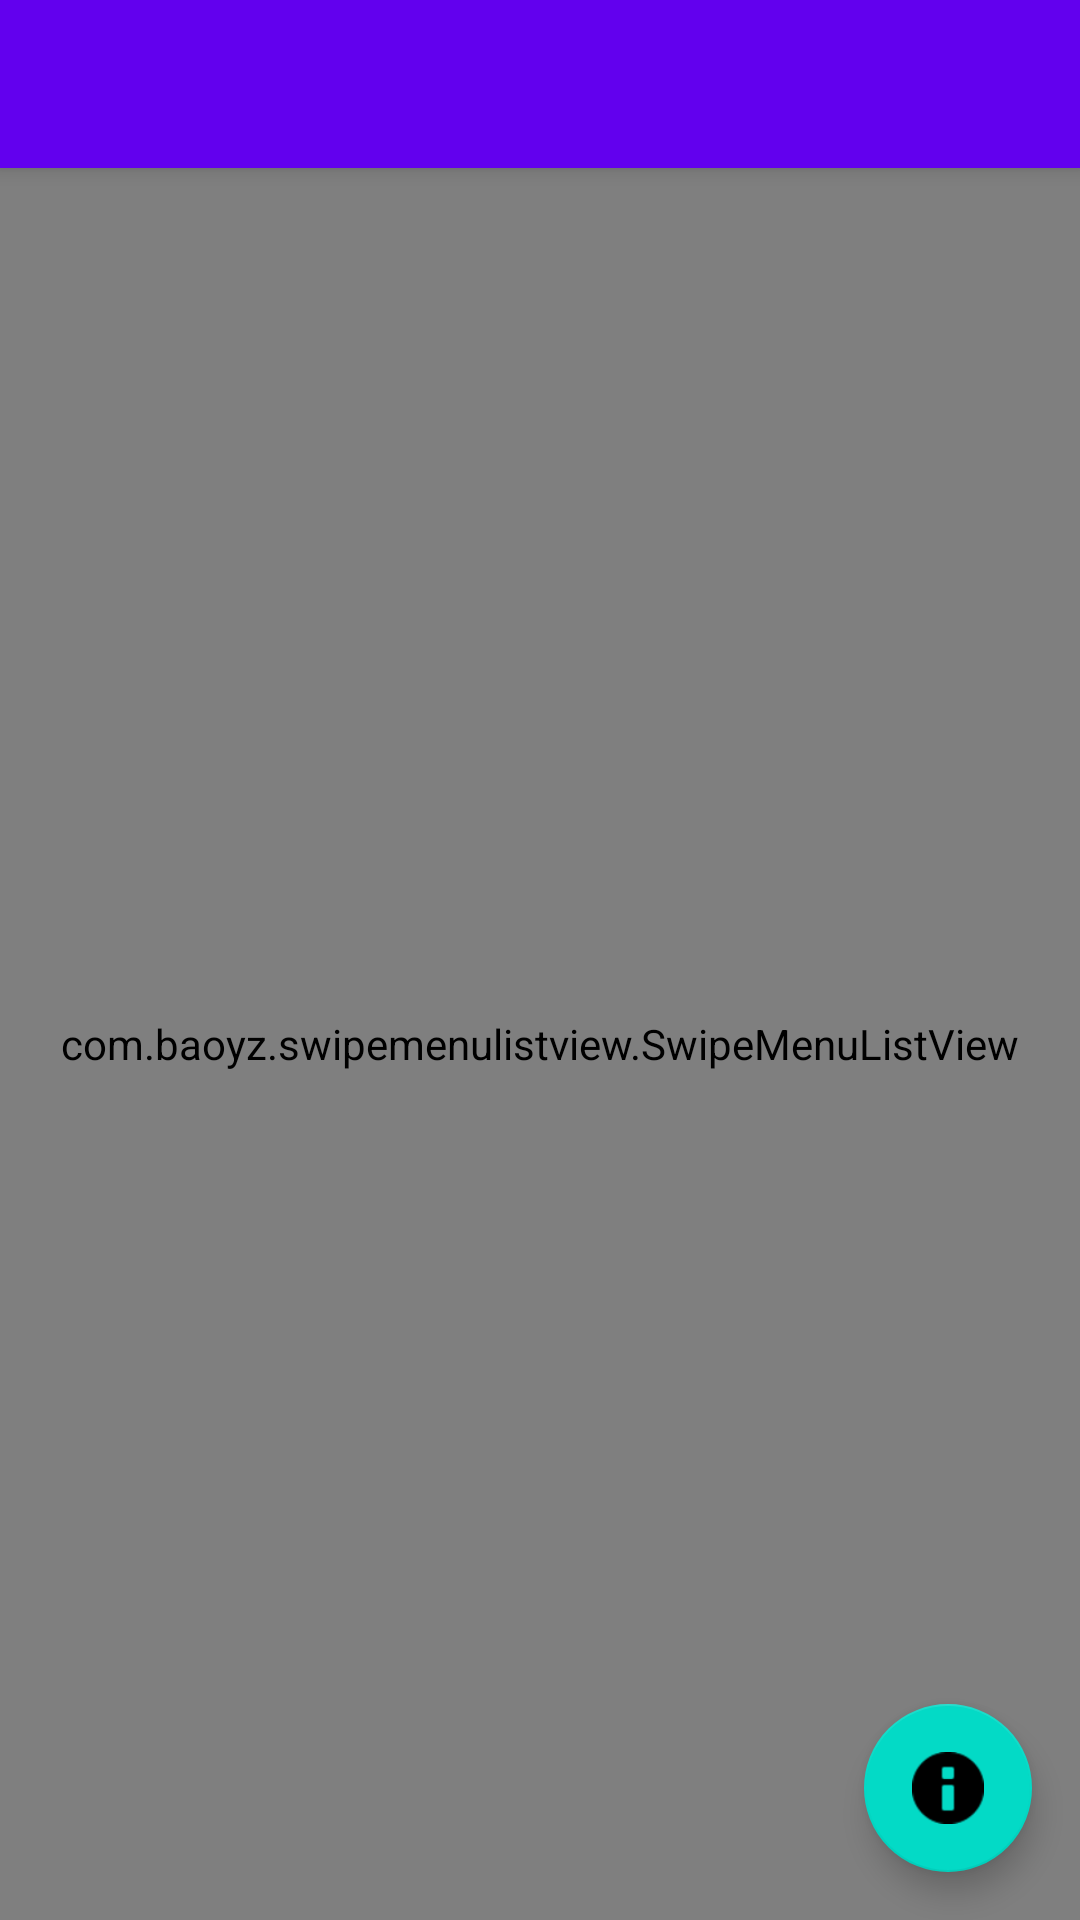

Icons on this 1080×1920 Android screen, each with its box as (x1,y1,x2,y2):
info: (864,1704,1032,1872)
